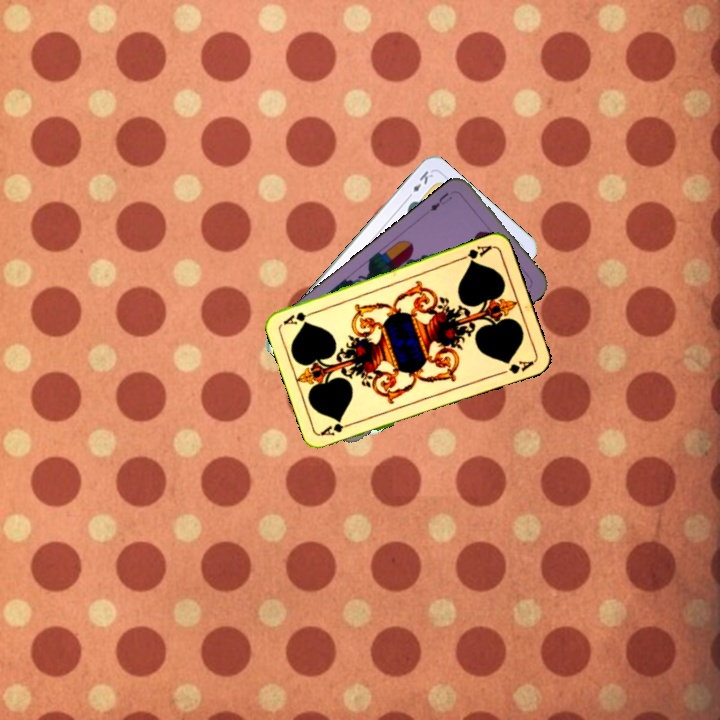EK: (403, 166, 436, 202)
EU: (426, 188, 455, 214)
GA: (456, 241, 495, 265), (317, 418, 357, 438)
